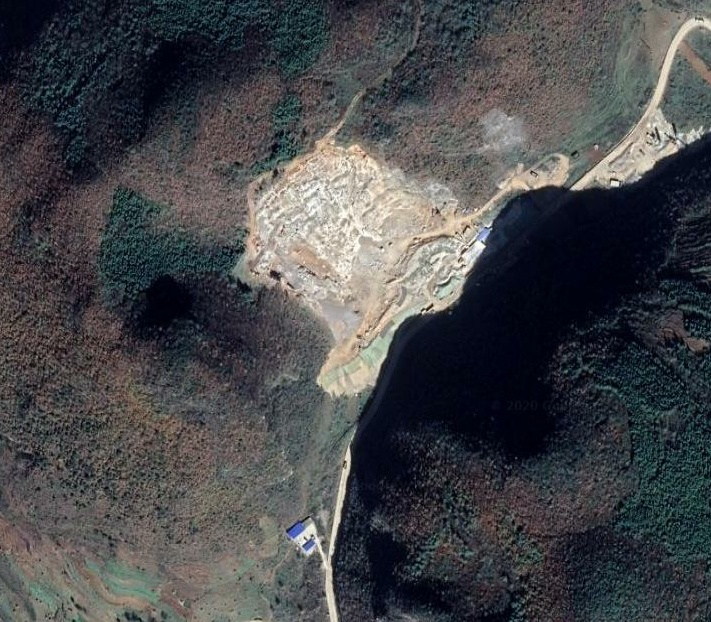slope: (234, 125, 571, 398), (483, 104, 536, 154)
